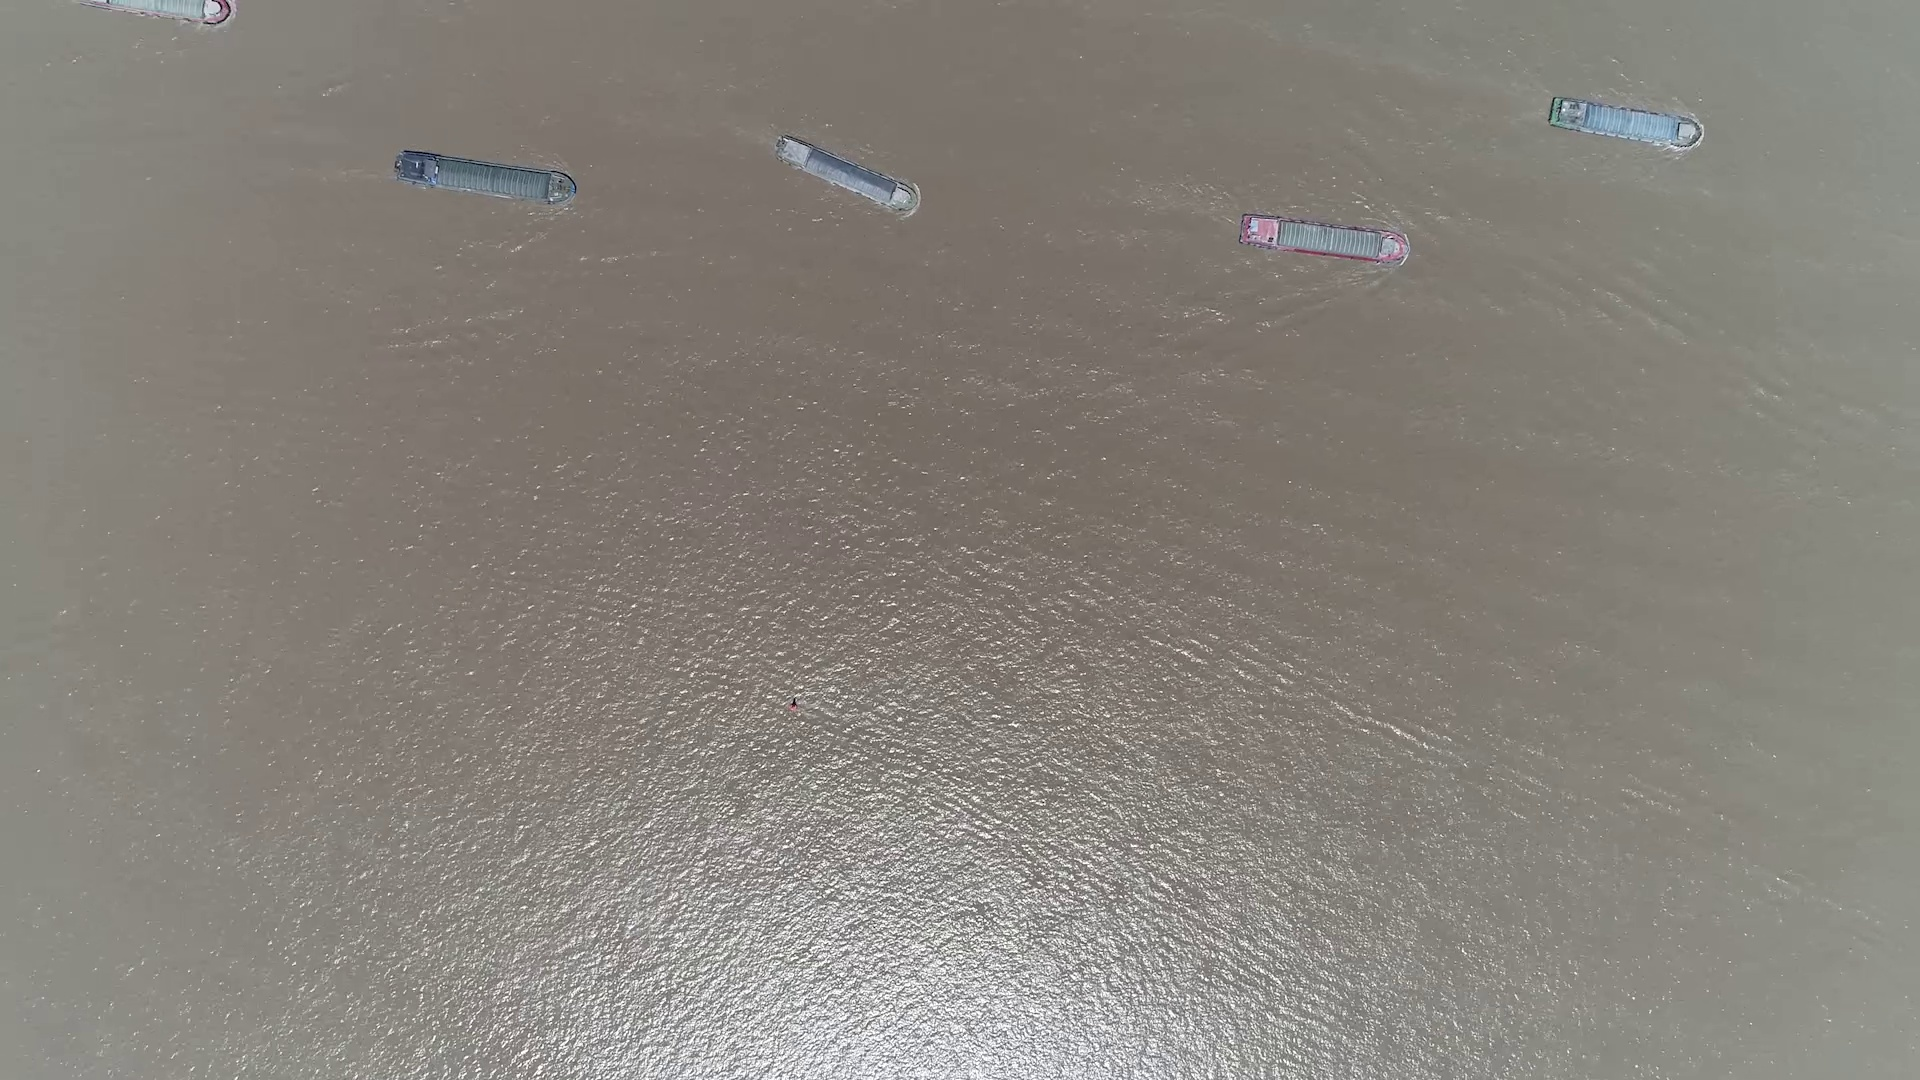ship: (771, 136, 916, 214), (396, 152, 576, 204), (1237, 214, 1410, 264), (1549, 102, 1698, 146)
